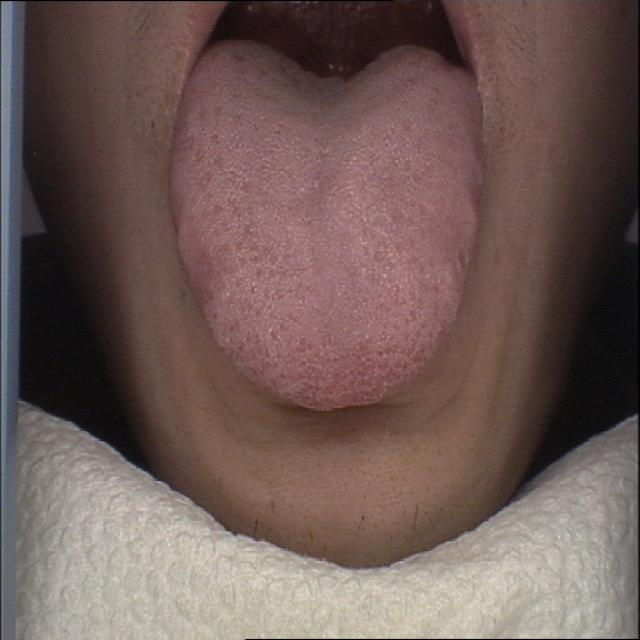tongue: (169, 35, 485, 421)
